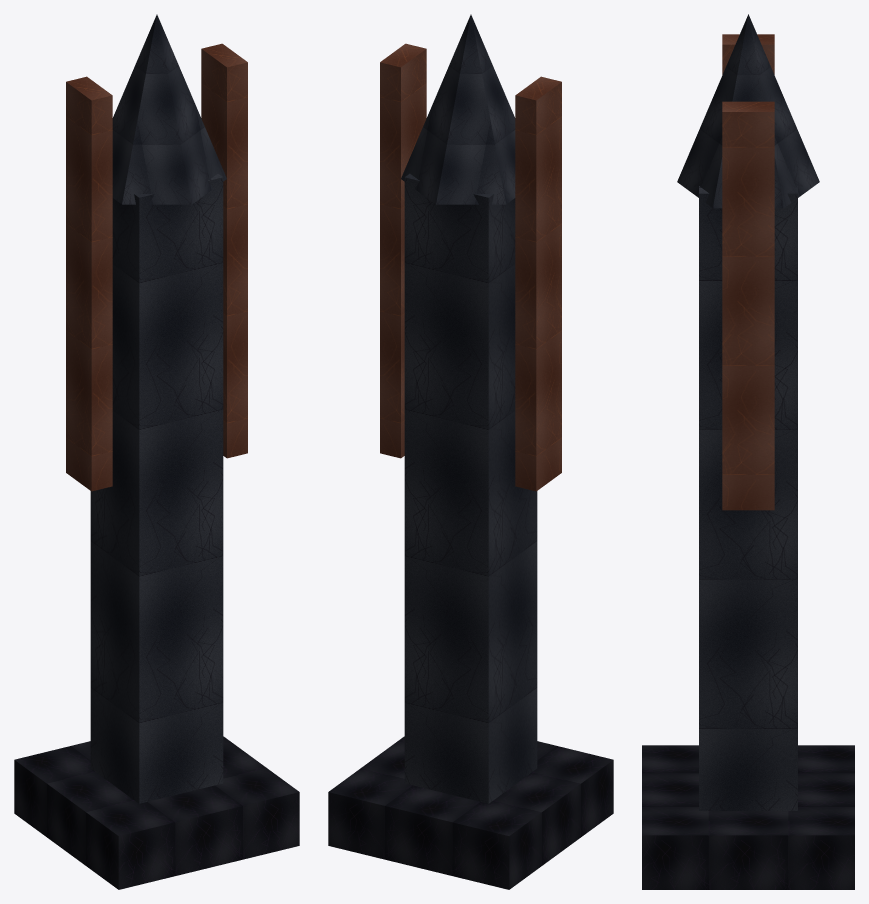
The model's file is blackstone-spire.glb.
3 views of the same model, side by side, from view 1: azimuth 30°, elevation 25°; view 2: azimuth 150°, elevation 25°; view 3: azimuth 270°, elevation 25° (orthographic).
Visible parts, largest first — view 1: Spire_Shaft, Spire_Foot, Spire_Blade_-1, Spire_Crown, Spire_Blade_1; view 2: Spire_Shaft, Spire_Foot, Spire_Blade_-1, Spire_Crown, Spire_Blade_1; view 3: Spire_Shaft, Spire_Foot, Spire_Blade_1, Spire_Crown, Spire_Blade_-1.
Part boxes in pixels (x1,y1,x2,y2): Spire_Shaft: (90,173,223,803); Spire_Foot: (14,736,299,889); Spire_Blade_-1: (66,76,112,491); Spire_Crown: (112,14,226,204); Spire_Blade_1: (201,43,247,458); Spire_Shaft: (404,173,537,803); Spire_Foot: (328,736,613,889); Spire_Blade_-1: (515,76,561,491); Spire_Crown: (401,14,515,204); Spire_Blade_1: (380,43,426,458); Spire_Shaft: (699,186,797,810); Spire_Foot: (642,745,854,889); Spire_Blade_1: (722,101,774,510); Spire_Crown: (677,14,819,208); Spire_Blade_-1: (722,34,774,74).
Bounding box in the file's own units: 1.55 × 6.68 × 1.55.
3 materials, 3 textured.
